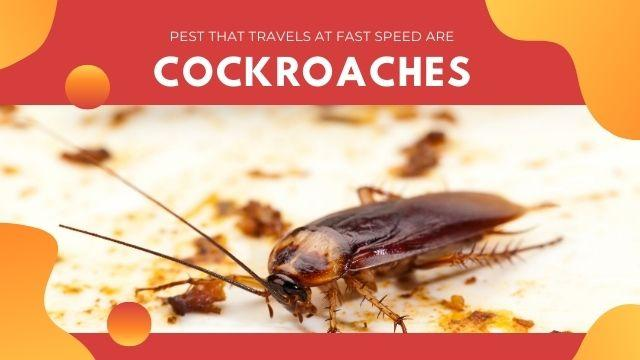cockroach: (258, 188, 532, 325)
